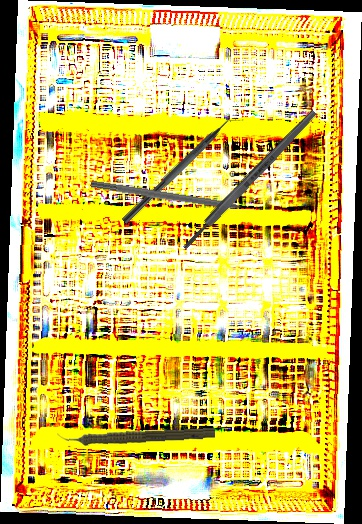Chopper: (121, 108, 246, 232)
Handpiece: (56, 420, 216, 450)
Hook Surgical: (90, 179, 262, 217)
Scalpel Handle: (180, 108, 319, 252)
